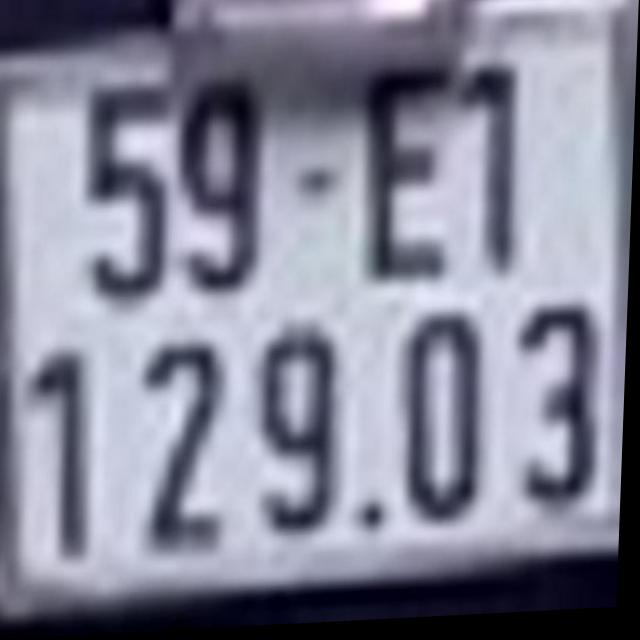0: (394, 304, 496, 525)
1: (30, 344, 108, 567), (467, 62, 533, 284)
2: (138, 341, 239, 557)
3: (519, 304, 609, 515)
5: (77, 77, 178, 313)
9: (176, 75, 270, 301), (261, 330, 347, 543)
E: (357, 73, 461, 288)
